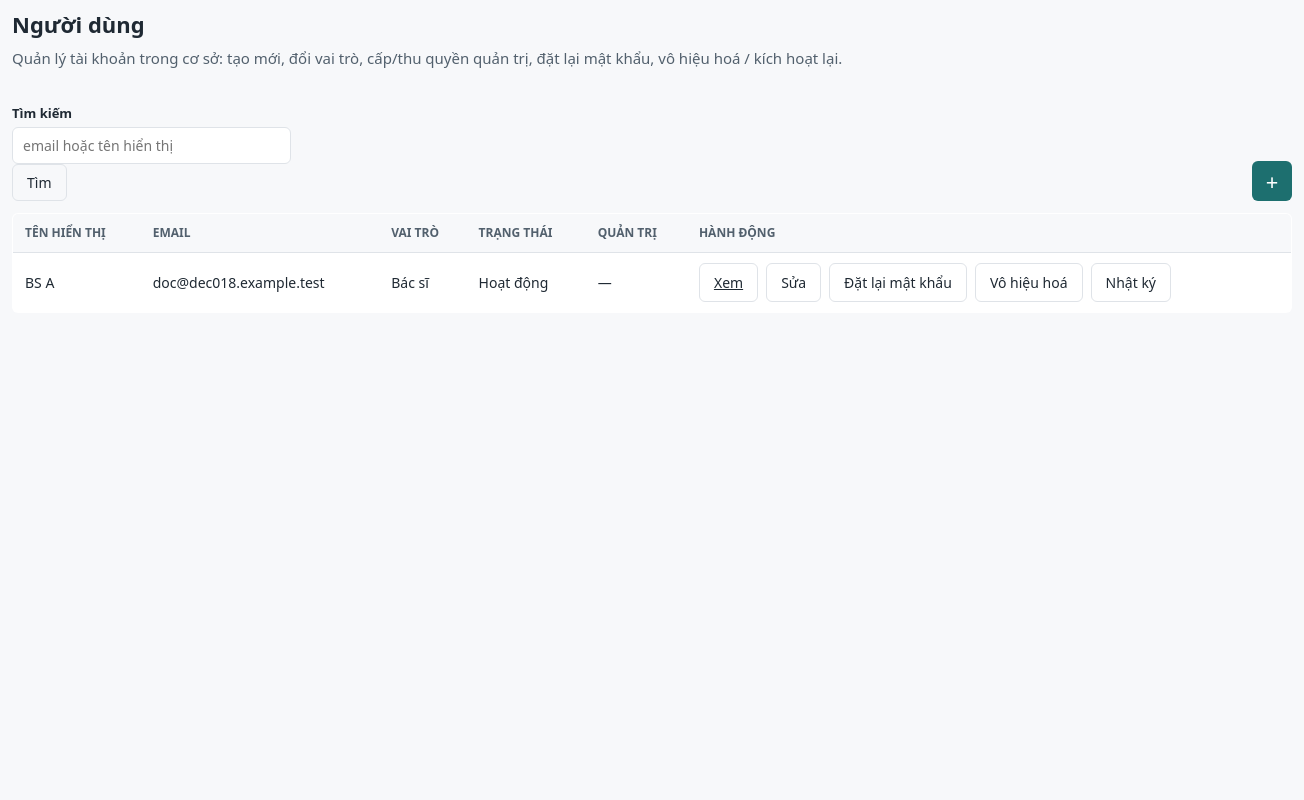
Scenario: UsersPage (DEC-018 T5) › disables a user via the row action — button shows processing, then a success toast
Expected: the text "doc@dec018.example.test" is shown, top-left (141, 252), bottom-right (379, 312)
Step 1. Click the button "Vô hiệu hoá" → (1029, 282), box top-left (975, 263), bottom-right (1083, 302)
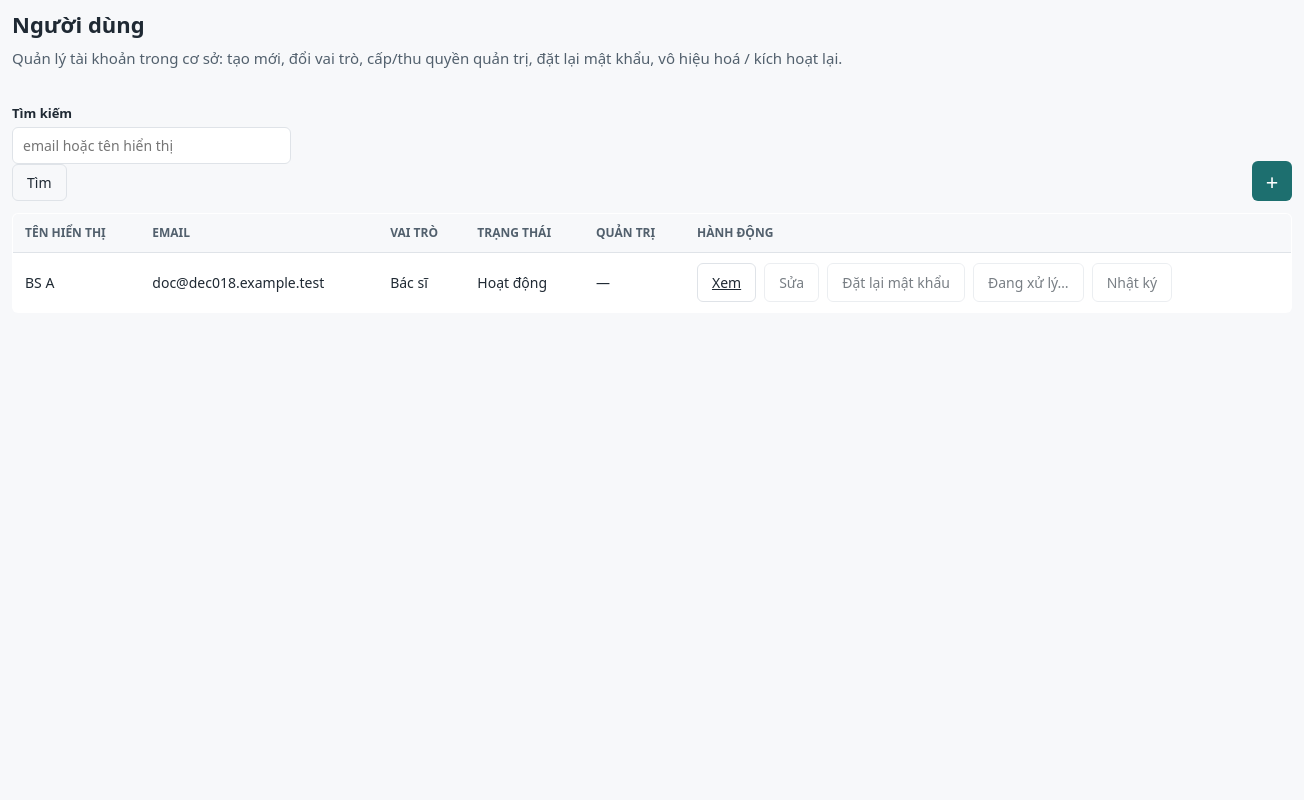
Expected: the button "Đang xử lý…" is disabled
# DOUBLE-CLICK — a rapid second press does nothing.
Step 2. Click the button "Đang xử lý…" → (1028, 282), box top-left (973, 263), bottom-right (1084, 302)
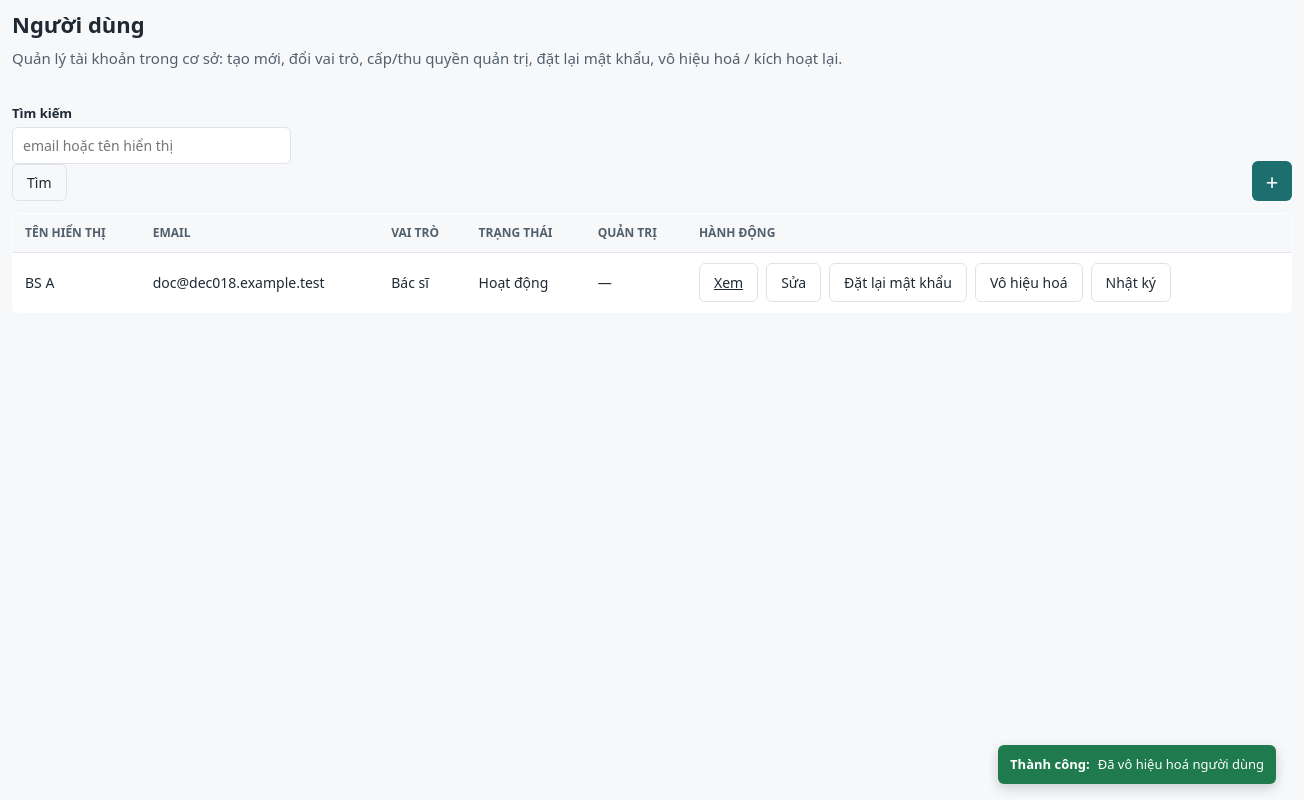
Expected: the text "Đã vô hiệu hoá người dùng" is shown, top-left (1098, 754), bottom-right (1264, 774)
